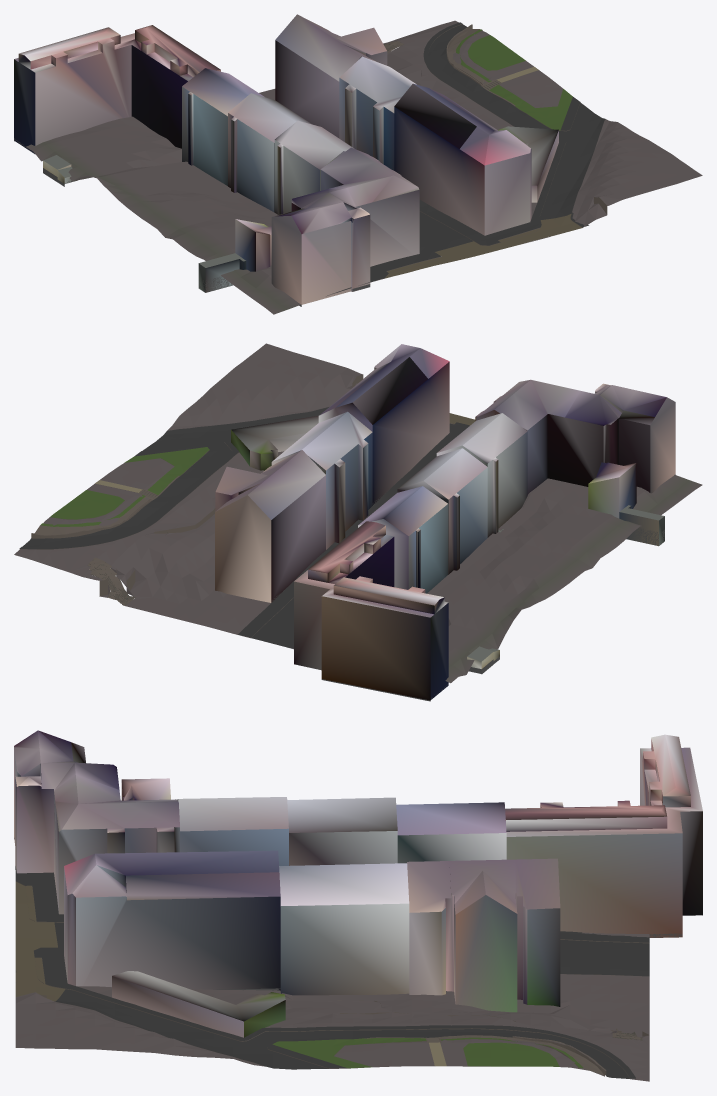
3 views of the same model, one above another, from view 1: azimuth 30°, elevation 25°; view 2: azimuth 150°, elevation 25°; view 3: azimuth 270°, elevation 25° (orthographic). The views are drawn at different scales.
Parts seen in each view (by area): view 1: c_p00_m15; view 2: c_p00_m15; view 3: c_p00_m15.
Boxes of the visible parts, left/top/right/bottom form: c_p00_m15: left=14, top=14, right=702, bottom=314; c_p00_m15: left=14, top=343, right=702, bottom=701; c_p00_m15: left=14, top=730, right=702, bottom=1081.
Bounding box in the file's own units: 133 × 34.12 × 139.
